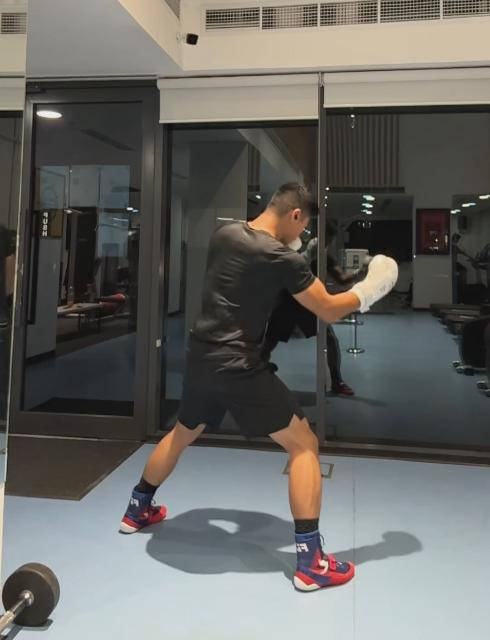punch: (120, 179, 398, 593)
